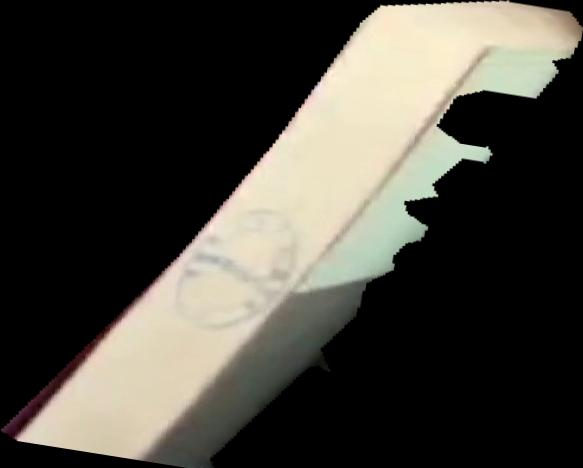backward: (1, 1, 583, 468)
